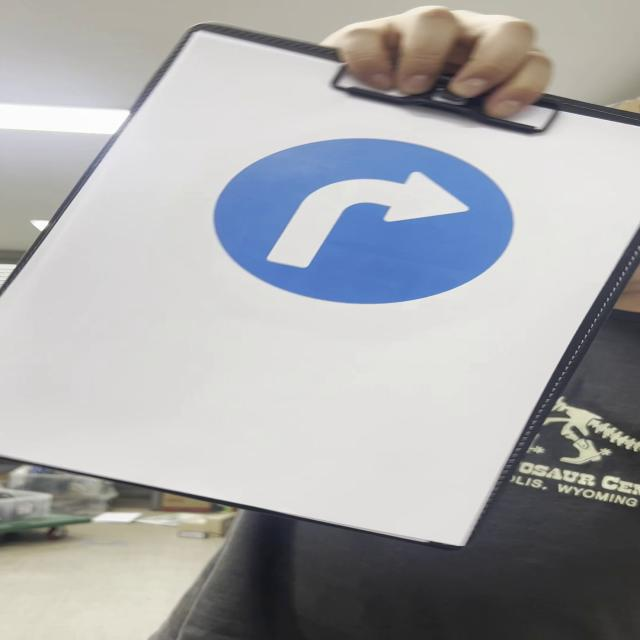right: (214, 139, 516, 306)
